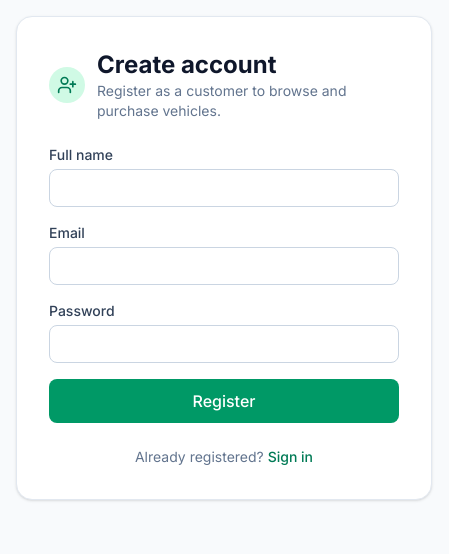
it: Registration page › shows an error when registration fails
Type "Test User" into the field labelled "Full name".
click(224, 188); type("Test User")  # box [49,169,399,207]
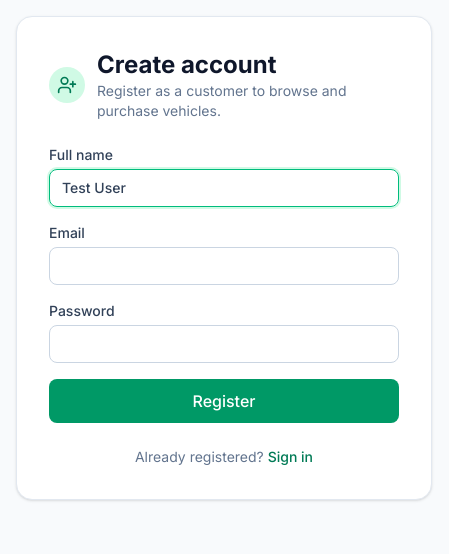
Type "test@example.com" into the field labelled "Email".
click(224, 266); type("test@example.com")  # box [49,247,399,285]
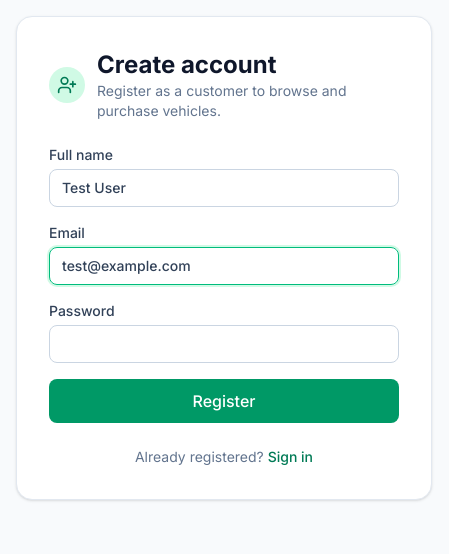
Type "Password123" into the password field labelled "Password".
click(224, 344); type("Password123")  # box [49,325,399,363]
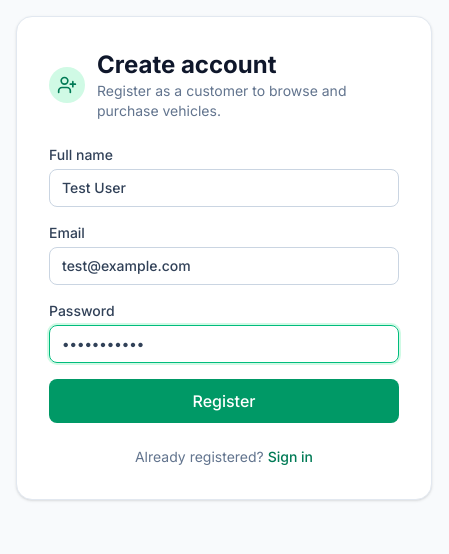
Click the button "Register".
click(224, 401)  # box [49,379,399,423]
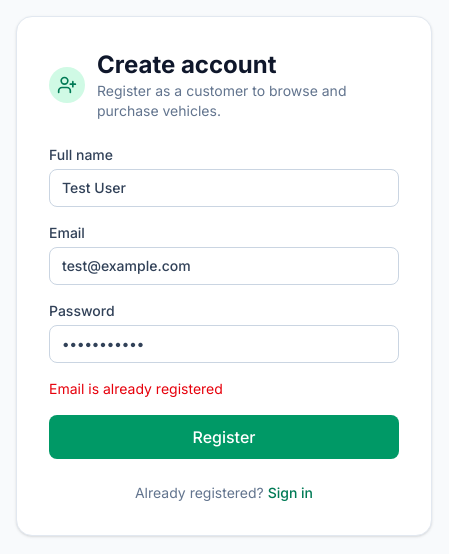
Expected: the text "Email is already registered" is shown, [49,380,223,397]
